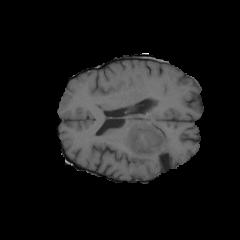glioma: (127, 120, 181, 167)
